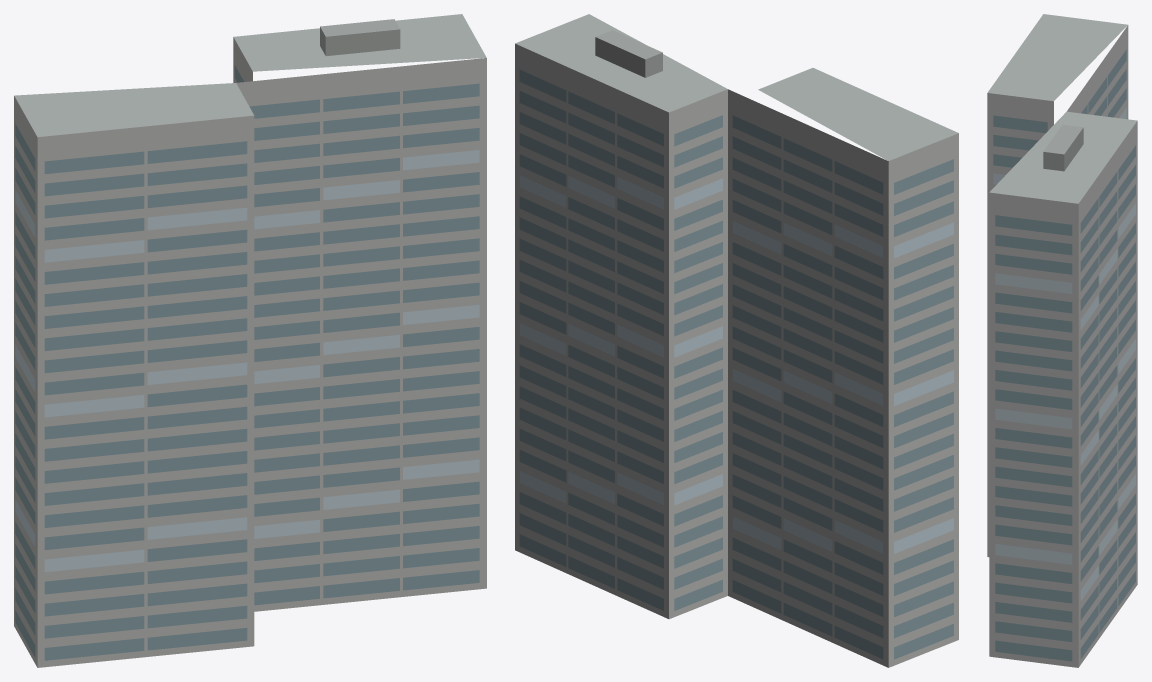
The model's file is fallback-jamsil-els-146.glb.
3 renders of one model, left to right at view 1: azimuth 30°, elevation 25°; view 2: azimuth 150°, elevation 25°; view 3: azimuth 270°, elevation 25°, orthographic. The views are drawn at different scales.
Visible parts, largest first — view 1: fallback-jamsil-els-146; view 2: fallback-jamsil-els-146; view 3: fallback-jamsil-els-146.
Part boxes in pixels (<box>): fallback-jamsil-els-146: <box>14,14,486,667</box>; fallback-jamsil-els-146: <box>515,14,958,667</box>; fallback-jamsil-els-146: <box>987,14,1137,667</box>.
Bounding box in the file's own units: 57.54 × 68 × 19.25.
